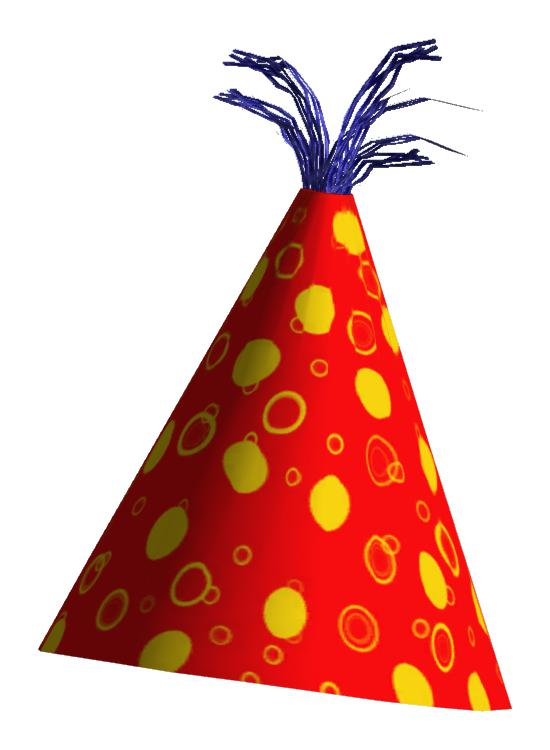cone: (38, 190, 513, 711)
